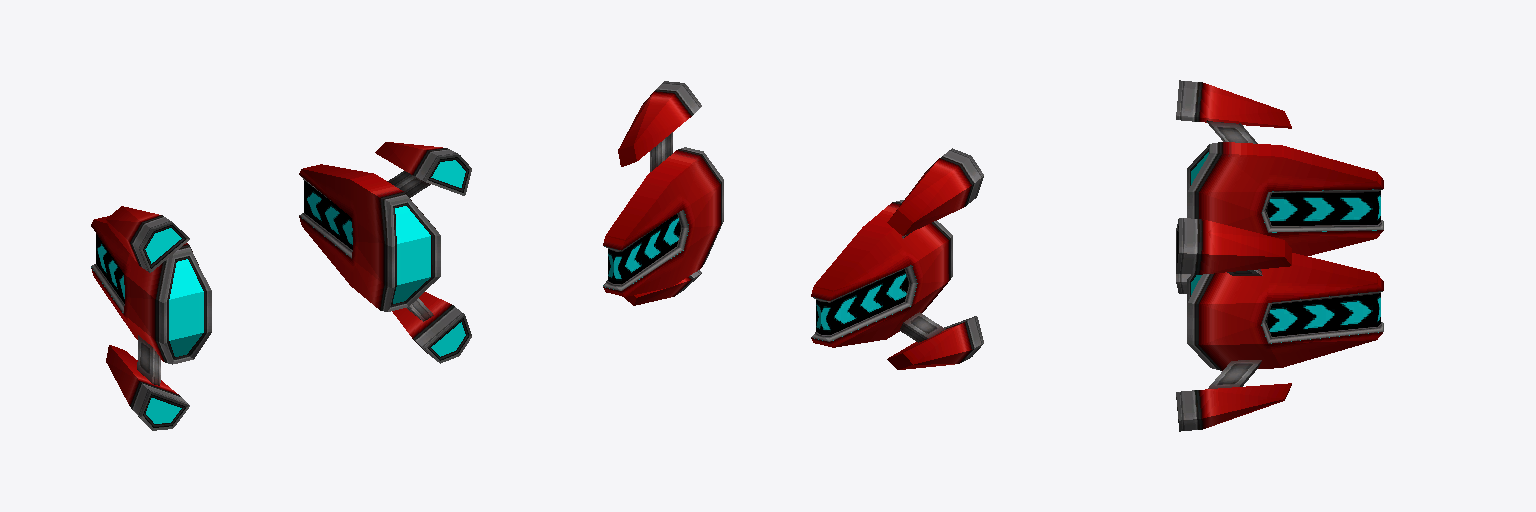
3 renders of one model, left to right at view 1: azimuth 30°, elevation 25°; view 2: azimuth 150°, elevation 25°; view 3: azimuth 270°, elevation 25°, orthographic.
Visible parts, largest first — view 1: polygon0, polygon1, polygon2; view 2: polygon0, polygon2; view 3: polygon0, polygon2.
Part boxes in pixels (x1,y1,x2,y2): polygon0: (91, 142, 471, 430); polygon1: (145, 160, 465, 423); polygon2: (96, 181, 352, 303); polygon0: (603, 81, 983, 369); polygon2: (608, 214, 908, 334); polygon0: (1176, 80, 1383, 431); polygon2: (1266, 191, 1380, 336).
Bounding box in the file's own units: 18.72 × 11.15 × 10.15.
Materials: 3 (1 with a texture image).